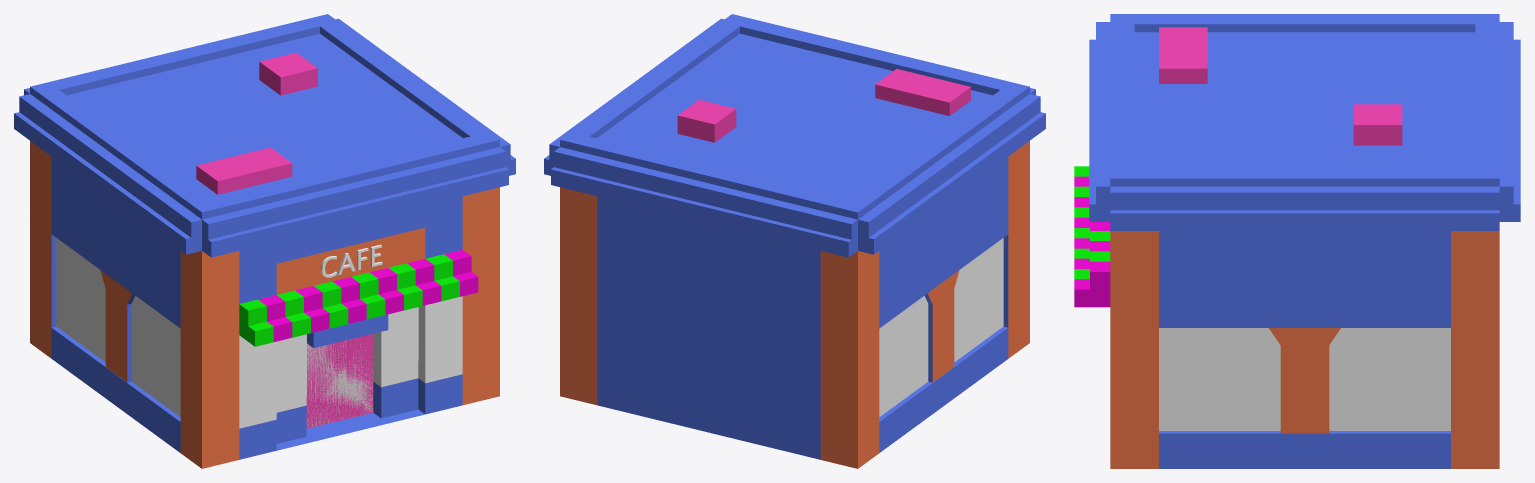
File: cafe.fbx
3 renders of one model, left to right at view 1: azimuth 30°, elevation 25°; view 2: azimuth 150°, elevation 25°; view 3: azimuth 270°, elevation 25°, orthographic. The views are drawn at different scales.
Parts seen in each view (by area): view 1: Cafe_LOD0, sign_LOD0; view 2: Cafe_LOD0; view 3: Cafe_LOD0.
Part boxes in pixels (<box>): Cafe_LOD0: <box>14,14,515,468</box>; sign_LOD0: <box>321,244,382,277</box>; Cafe_LOD0: <box>544,14,1045,468</box>; Cafe_LOD0: <box>1074,14,1520,468</box>.
Size of what is drawn, in the model's own units: 1108 by 859 by 1146.
